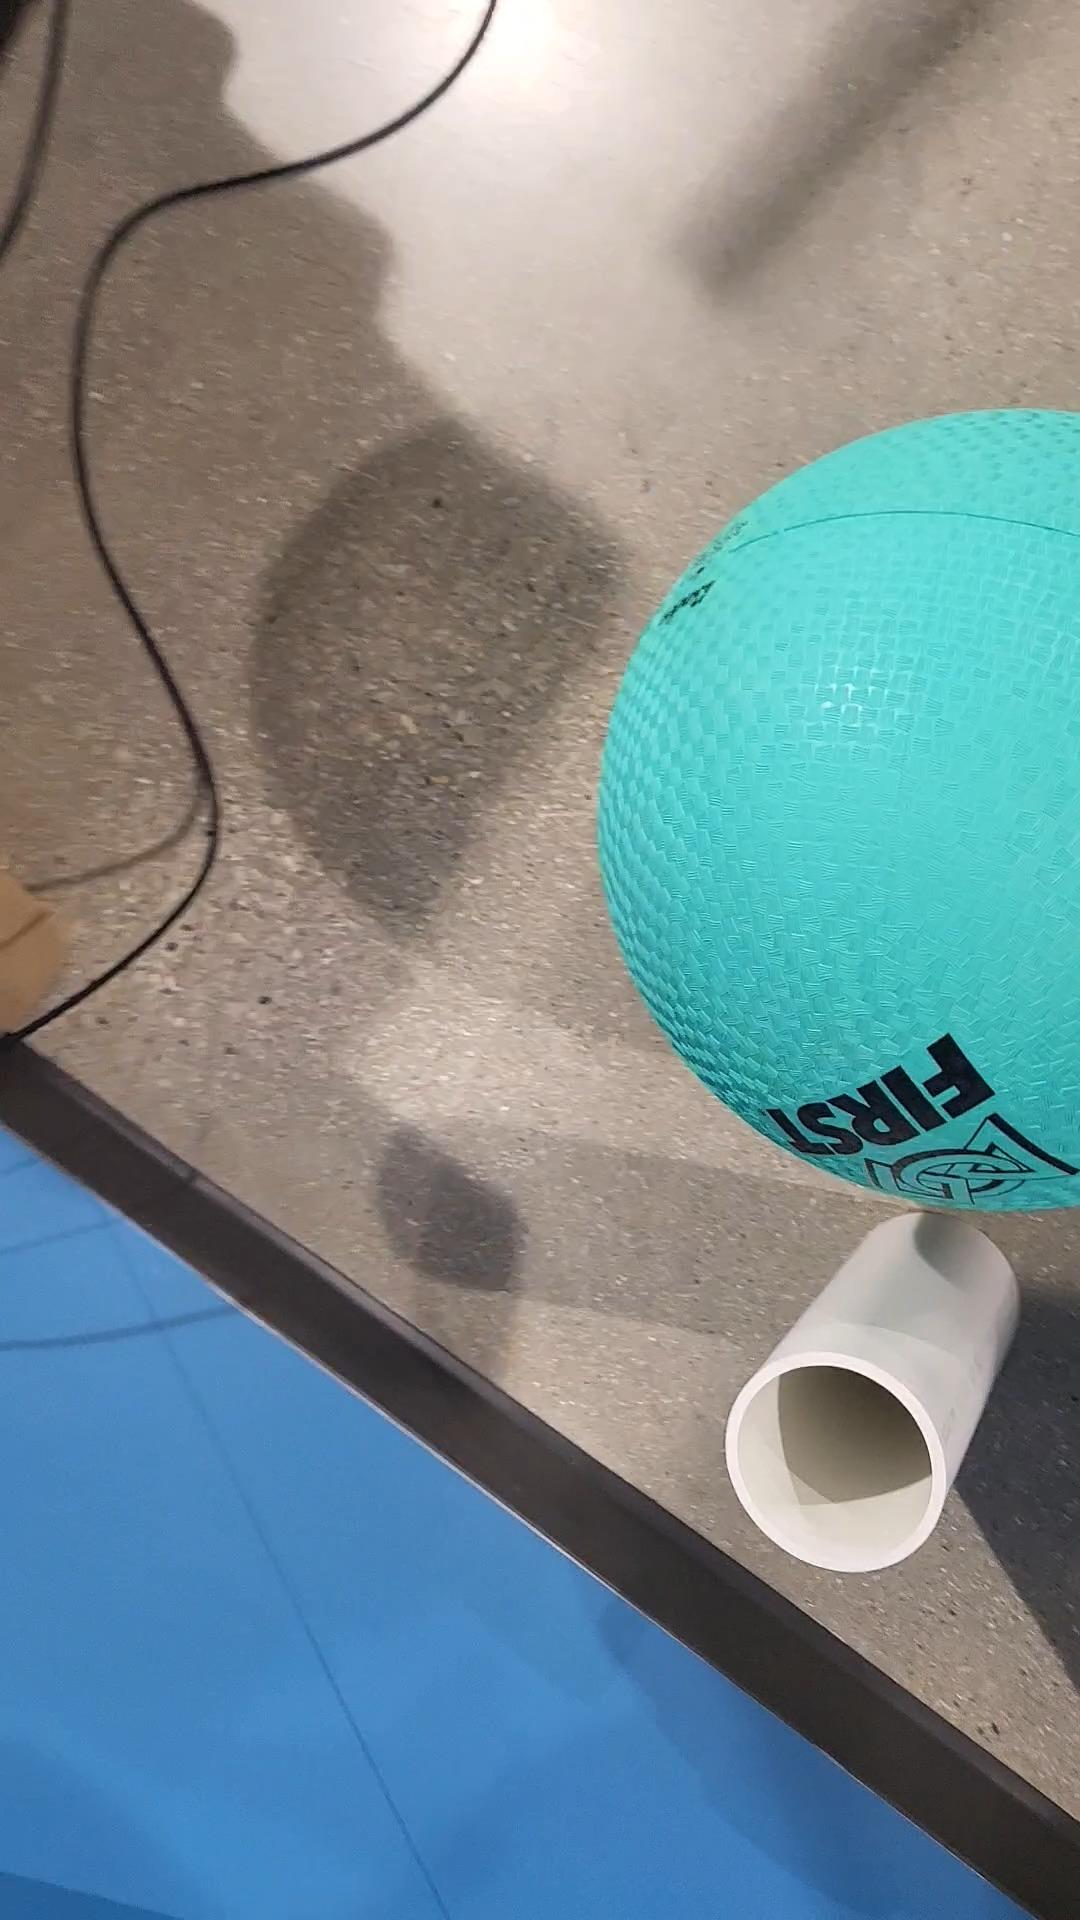algae: (589, 397, 1080, 1232)
coral: (737, 1215, 1019, 1597)
